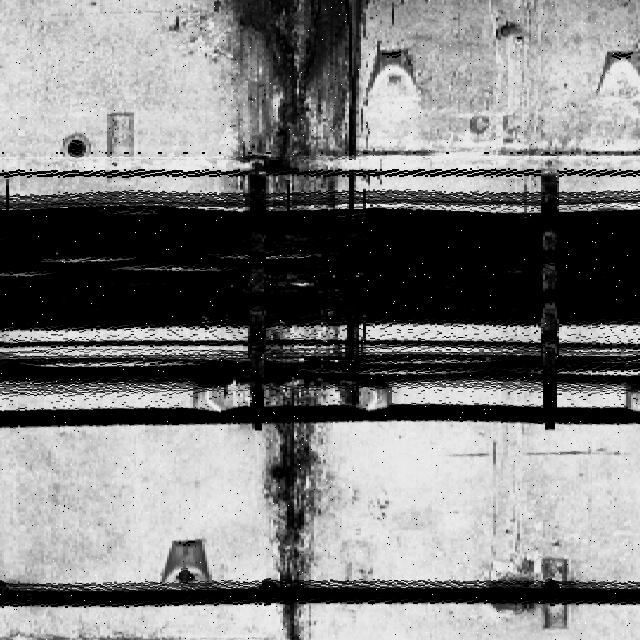leakage: (202, 0, 382, 206), (251, 328, 333, 639)
